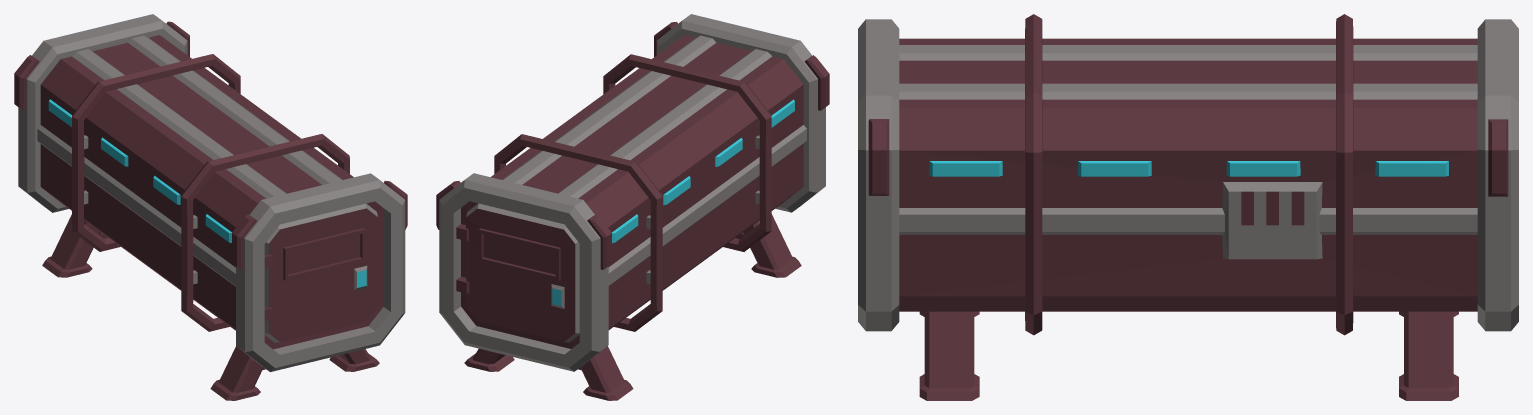
The model's file is scifi-planet-base-hall.fbx.
The picture shows the model from 3 angles, left to right: view 1: azimuth 30°, elevation 25°; view 2: azimuth 150°, elevation 25°; view 3: azimuth 270°, elevation 25°; orthographic projection. The views are drawn at different scales.
Visible parts, largest first — view 1: scifi-planet-base-hall; view 2: scifi-planet-base-hall; view 3: scifi-planet-base-hall.
Part boxes in pixels (x1,y1,x2,y2): scifi-planet-base-hall: [14, 14, 407, 400]; scifi-planet-base-hall: [436, 14, 829, 400]; scifi-planet-base-hall: [858, 14, 1518, 400].
Bounding box in the file's own units: 3.4 × 3.93 × 8.
